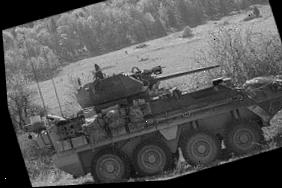tank: (5, 12, 282, 188)
